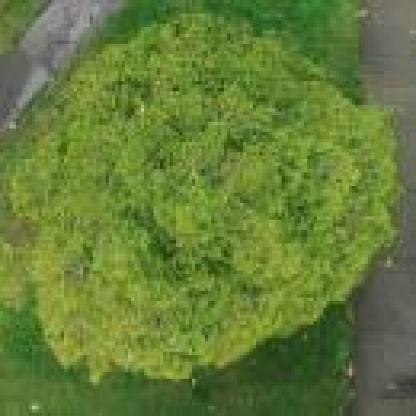Coniferous Tree: (0, 10, 403, 389)
